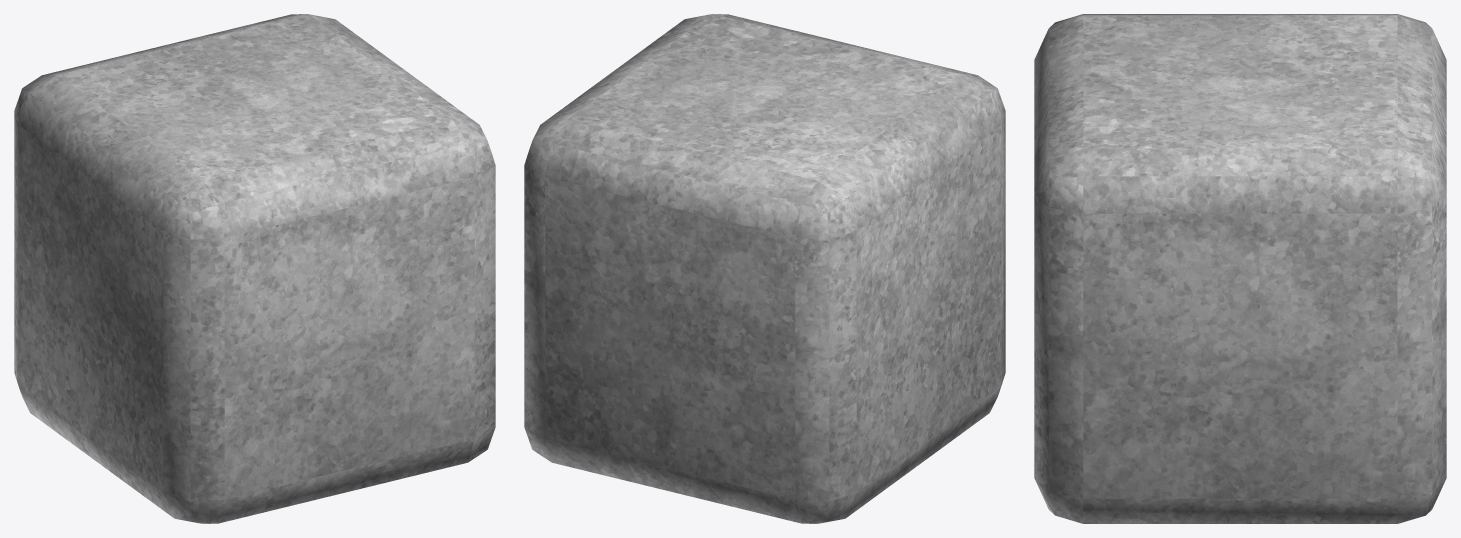
The model's file is m_wall.glb.
The picture shows the model from 3 angles, left to right: view 1: azimuth 30°, elevation 25°; view 2: azimuth 150°, elevation 25°; view 3: azimuth 270°, elevation 25°; orthographic projection. The views are drawn at different scales.
Visible parts, largest first — view 1: 立方体; view 2: 立方体; view 3: 立方体.
Boxes of the visible parts, x1=… form: 立方体: x1=14, y1=14, x2=495, y2=523; 立方体: x1=524, y1=14, x2=1005, y2=523; 立方体: x1=1034, y1=14, x2=1446, y2=523.
Size of the model in its own units: 2 by 2 by 2.
1 material, 1 textured.
